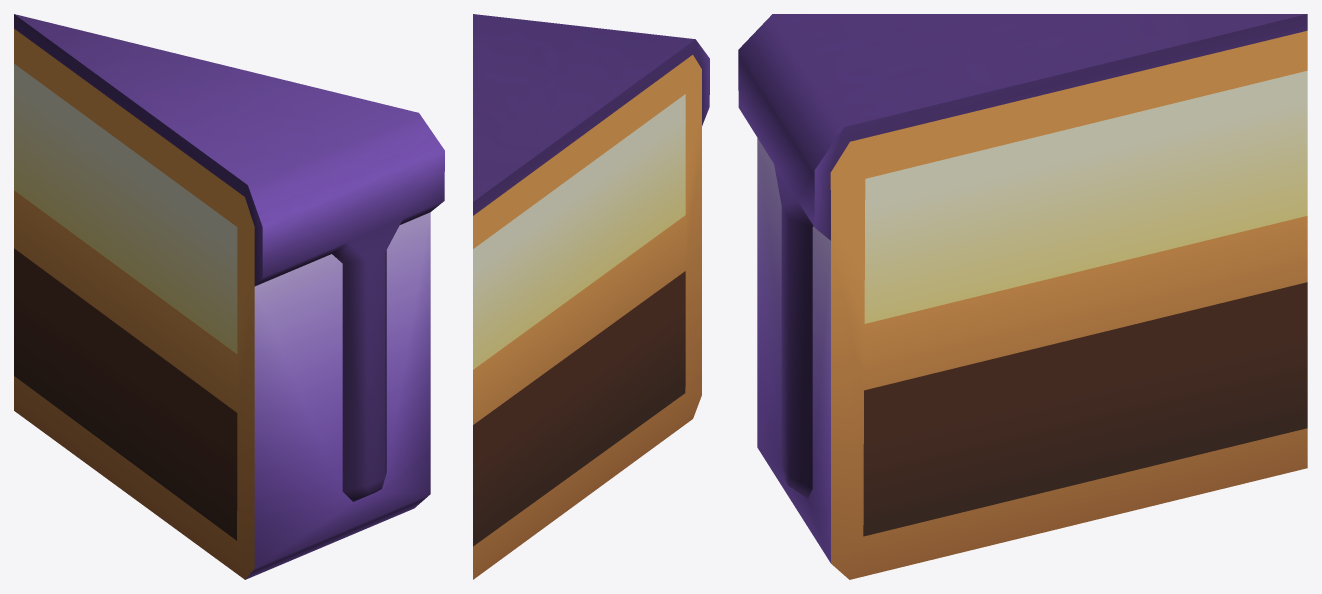
File: m_CakeGlazed01_Slice03.fbx
3 views of the same model, side by side, from view 1: azimuth 30°, elevation 25°; view 2: azimuth 150°, elevation 25°; view 3: azimuth 270°, elevation 25° (orthographic). The views are drawn at different scales.
Parts seen in each view (by area): view 1: m_CakeGlazed06_Slice03; view 2: m_CakeGlazed06_Slice03; view 3: m_CakeGlazed06_Slice03.
Boxes of the visible parts, x1,y1,x2,y2 form: m_CakeGlazed06_Slice03: (14,14,444,579); m_CakeGlazed06_Slice03: (473,14,709,579); m_CakeGlazed06_Slice03: (738,14,1307,579).
Size of the model in its own units: 6.52 by 11.47 by 13.04.
